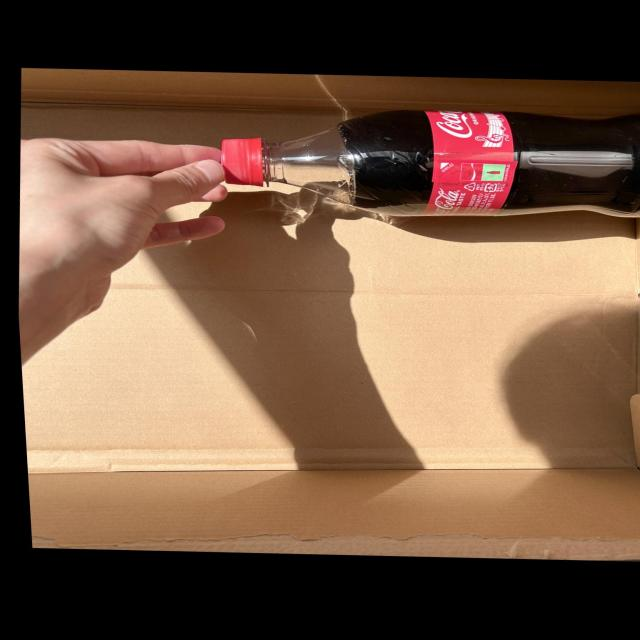high: (220, 109, 640, 217)
